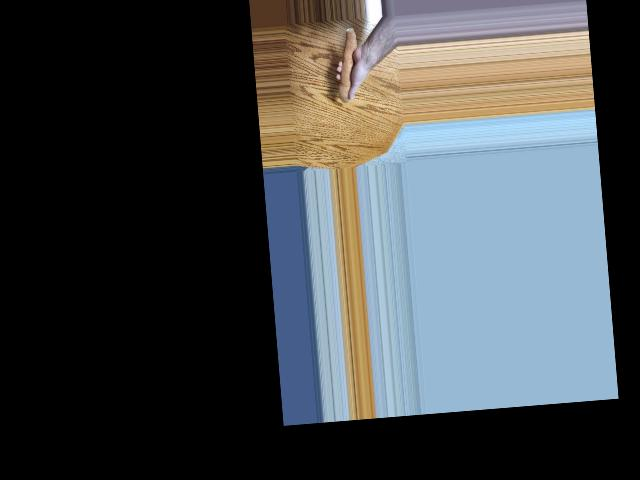sweet_potato: (332, 24, 364, 102)
